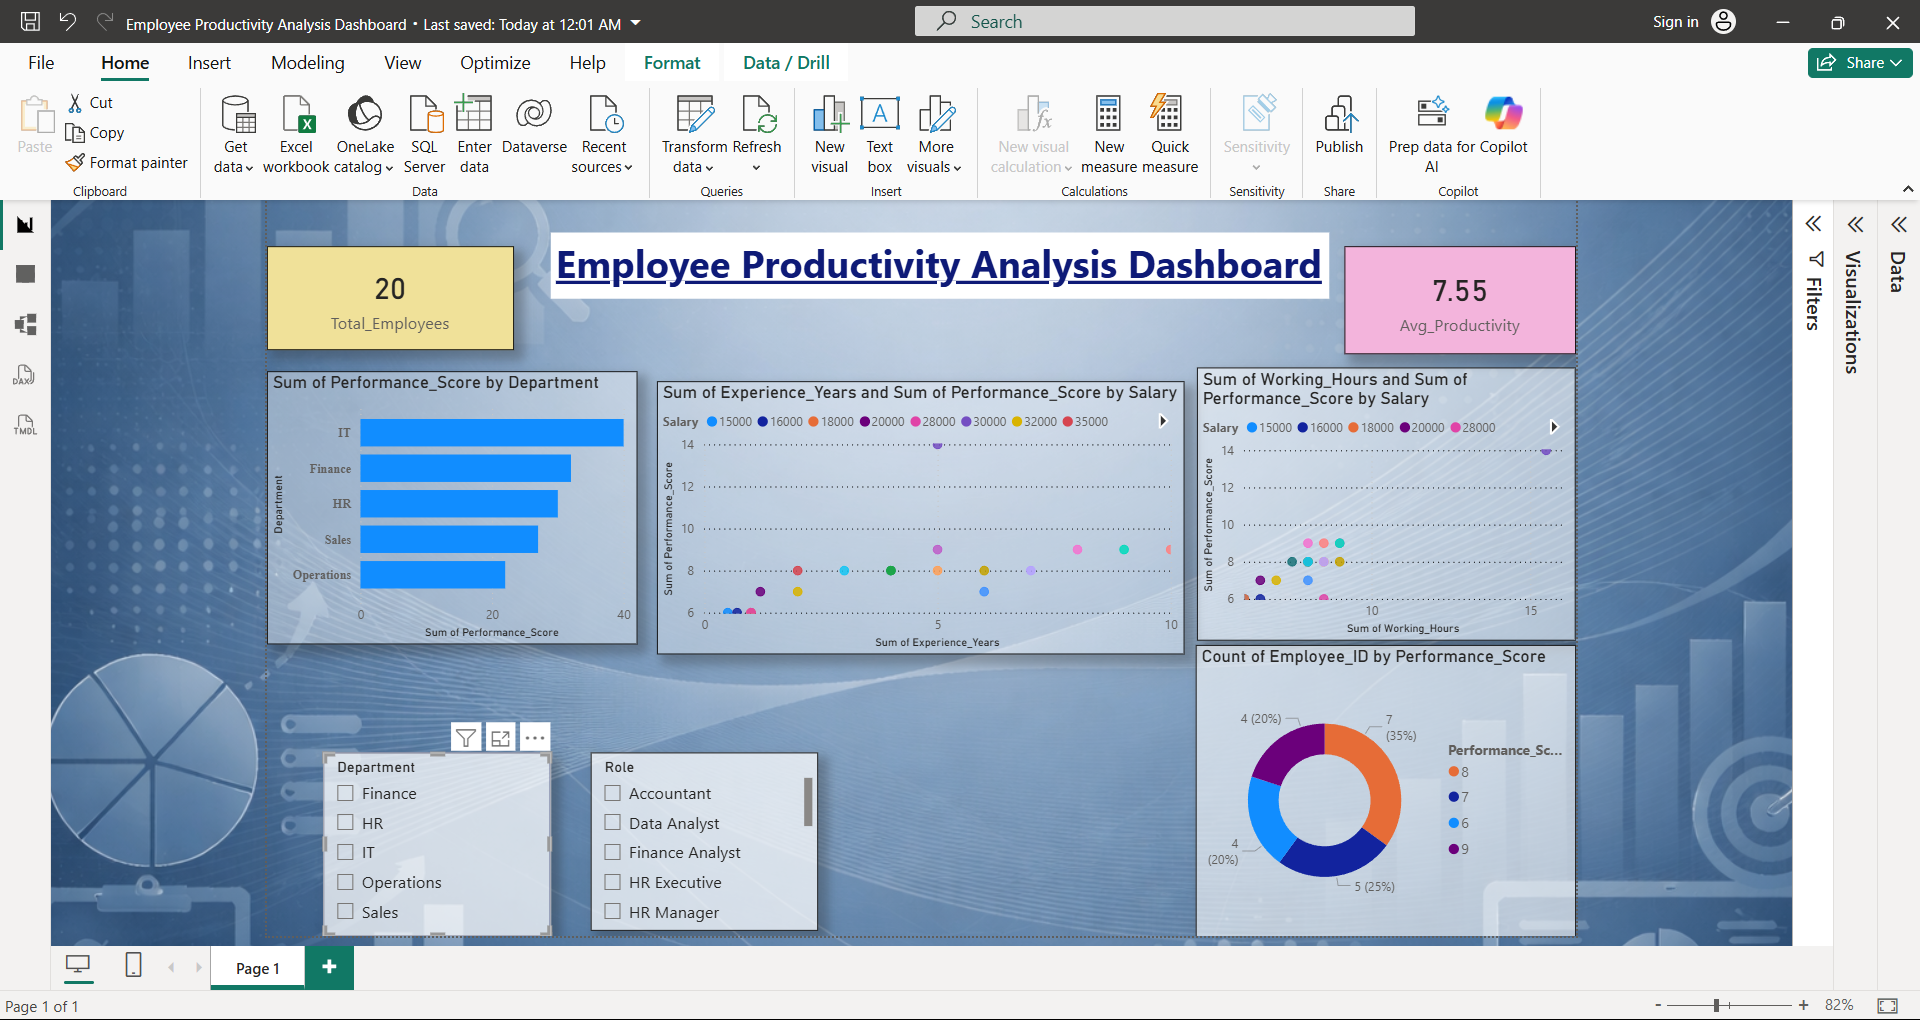

The dashboard page shown, as its layout file describes it:
{"tool":"powerbi","page":{"name":"Page 1","canvas":[1280,720],"ordinal":0},"visuals":[{"type":"clusteredBarChart","fields":{"Category":["employee_productivity.Department"],"Y":["Sum(employee_productivity.Performance_Score)"]},"box":[0,167.4,362.3,267.6],"z":0},{"type":"scatterChart","fields":{"X":["Sum(employee_productivity.Working_Hours)"],"Y":["Sum(employee_productivity.Performance_Score)"],"Series":["employee_productivity.Salary"]},"box":[909.8,163.3,370.5,267.6],"z":2000},{"type":"donutChart","fields":{"Category":["employee_productivity.Performance_Score"],"Y":["CountNonNull(employee_productivity.Employee_ID)"]},"box":[908.4,435,371.9,285.4],"z":3000},{"type":"scatterChart","fields":{"X":["Sum(employee_productivity.Experience_Years)"],"Y":["Sum(employee_productivity.Performance_Score)"],"Series":["employee_productivity.Salary"]},"box":[381.5,177,516,267.6],"z":3001},{"type":"card","fields":{"Values":["employee_productivity.Total_Employees"]},"box":[0,45.3,241.5,101.5],"z":3002},{"type":"card","fields":{"Values":["employee_productivity.Avg_Productivity"]},"box":[1053.9,45.3,226.4,105.7],"z":3003},{"type":"slicer","fields":{"Values":["employee_productivity.Department"]},"box":[54.9,540.7,222.3,179.8],"z":3004},{"type":"slicer","fields":{"Values":["employee_productivity.Role"]},"box":[317,540.7,222.3,174.3],"z":3005},{"type":"textbox","box":[277.2,31.6,761.6,64.5],"z":3006}]}

Visuals, with their boxes on the page's 1280x720 design canvas (x1, y1, x2, y2). These are canvas units, not pixel positions in the 1920x1020 screenshot, which may show the page scaled, cropped or inside an application window:
clusteredBarChart - employee_productivity.Department x Sum(employee_productivity.Performance_Score): x1=0 y1=167 x2=362 y2=435
scatterChart - Sum(employee_productivity.Working_Hours) x Sum(employee_productivity.Performance_Score): x1=910 y1=163 x2=1280 y2=431
donutChart - employee_productivity.Performance_Score x CountNonNull(employee_productivity.Employee_ID): x1=908 y1=435 x2=1280 y2=720
scatterChart - Sum(employee_productivity.Experience_Years) x Sum(employee_productivity.Performance_Score): x1=382 y1=177 x2=898 y2=445
card - employee_productivity.Total_Employees: x1=0 y1=45 x2=242 y2=147
card - employee_productivity.Avg_Productivity: x1=1054 y1=45 x2=1280 y2=151
slicer - employee_productivity.Department: x1=55 y1=541 x2=277 y2=720
slicer - employee_productivity.Role: x1=317 y1=541 x2=539 y2=715
textbox: x1=277 y1=32 x2=1039 y2=96
